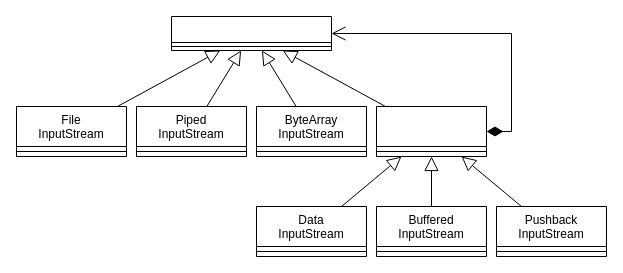
Image size: 623x273. Some labels were removed from this diagram. The shapes that lost their labels are listed below. From the top down, each one's centre as x and y in pixels, then its label:
(x=251, y=33): InputStream
(x=431, y=131): Filter InputStream
